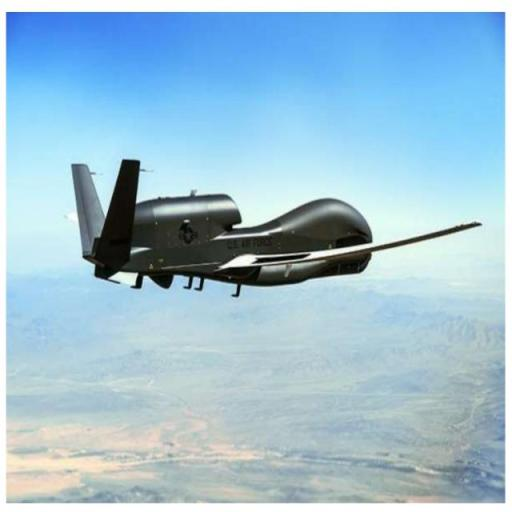uav: (46, 134, 488, 302)
